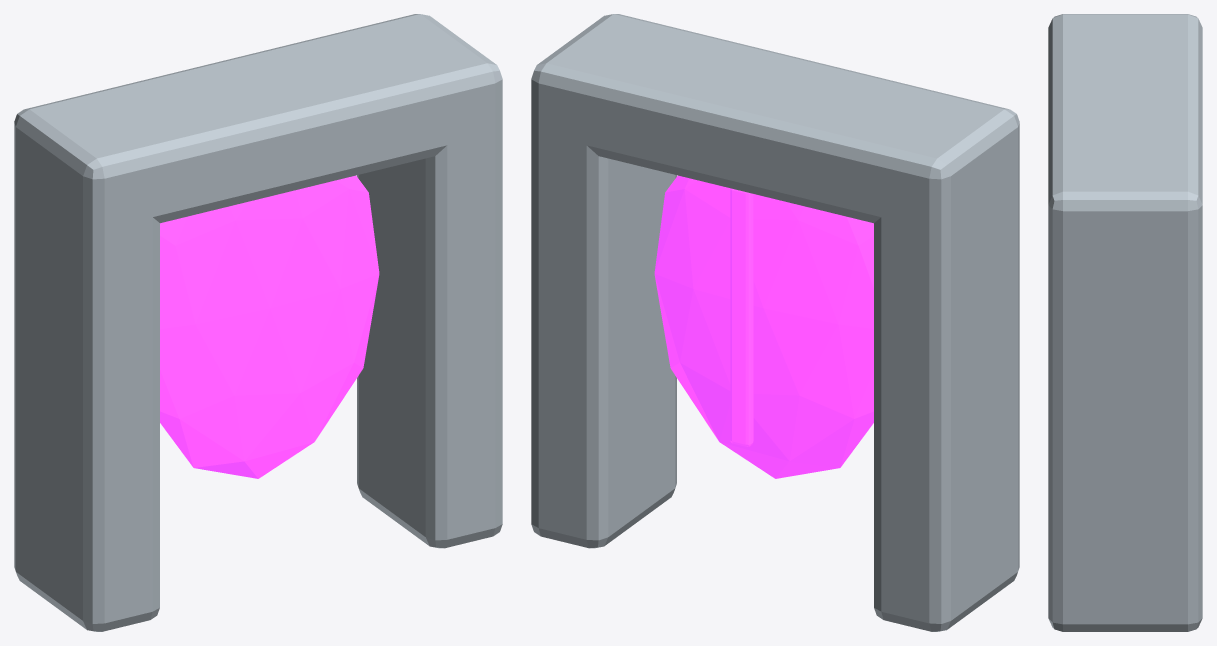
The model's file is Core-Portal-Frame.glb.
3 views of the same model, side by side, from view 1: azimuth 30°, elevation 25°; view 2: azimuth 150°, elevation 25°; view 3: azimuth 270°, elevation 25° (orthographic). The views are drawn at different scales.
Visible parts, largest first — view 1: Portal_Frame_Top.001, Portal_Frame_L.001, Portal_Frame_R.001, Portal_Field.001; view 2: Portal_Frame_Top.001, Portal_Frame_L.001, Portal_Frame_R.001, Portal_Field.001, Portal_Frame_Glow.001; view 3: Portal_Frame_R.001, Portal_Frame_Top.001.
Boxes of the visible parts, <box> form: Portal_Frame_Top.001: <box>14,14,502,229</box>; Portal_Frame_L.001: <box>14,154,159,631</box>; Portal_Frame_R.001: <box>357,112,502,548</box>; Portal_Field.001: <box>160,175,379,478</box>; Portal_Frame_Top.001: <box>531,14,1019,229</box>; Portal_Frame_L.001: <box>874,152,1019,631</box>; Portal_Frame_R.001: <box>531,106,676,548</box>; Portal_Field.001: <box>654,175,873,478</box>; Portal_Frame_Glow.001: <box>730,188,753,446</box>; Portal_Frame_R.001: <box>1048,229,1202,631</box>; Portal_Frame_Top.001: <box>1048,14,1202,257</box>.
Bounding box in the file's own units: 2.44 × 2.64 × 0.84.
